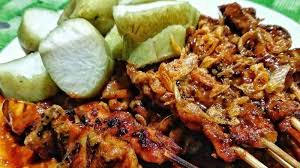sate: (3, 1, 299, 168)
